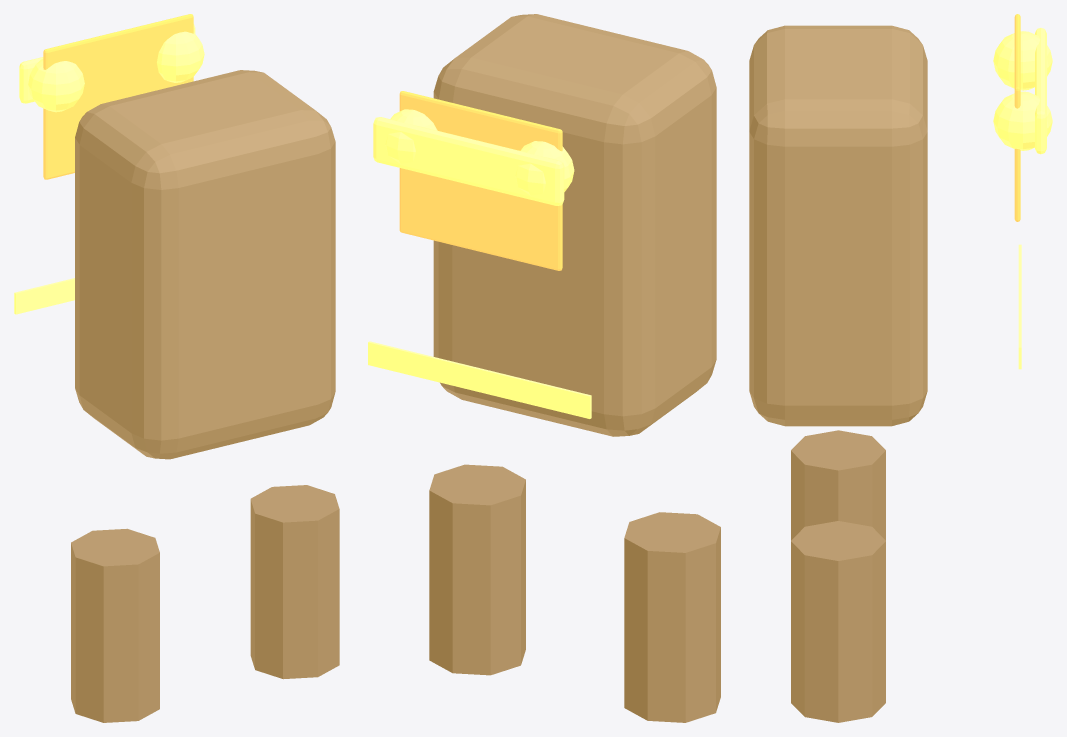
The model's file is batch_norm.glb.
3 renders of one model, left to right at view 1: azimuth 30°, elevation 25°; view 2: azimuth 150°, elevation 25°; view 3: azimuth 270°, elevation 25°, orthographic. The views are drawn at different scales.
Visible parts, largest first — view 1: batch_norm; view 2: batch_norm; view 3: batch_norm.
Part boxes in pixels (x1,y1,x2,y2): batch_norm: [14, 14, 339, 722]; batch_norm: [368, 14, 720, 722]; batch_norm: [749, 14, 1052, 722].
Size of the model in its own units: 0.52 by 1.12 by 0.51.
